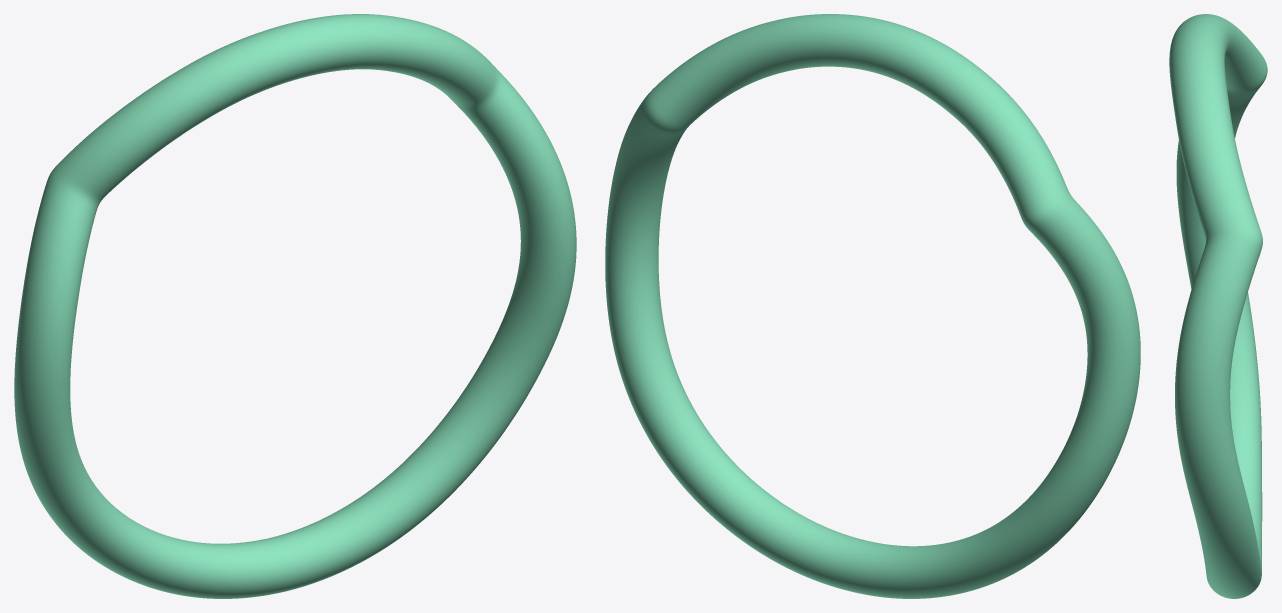
3 renders of one model, left to right at view 1: azimuth 30°, elevation 25°; view 2: azimuth 150°, elevation 25°; view 3: azimuth 270°, elevation 25°, orthographic. The views are drawn at different scales.
Visible parts, largest first — view 1: Metal03; view 2: Metal03; view 3: Metal03.
Boxes of the visible parts, x1,y1,x2,y2 form: Metal03: [14, 14, 576, 598]; Metal03: [605, 14, 1140, 598]; Metal03: [1169, 14, 1267, 598].
Bounding box in the file's own units: 20.88 × 20.91 × 3.51.
